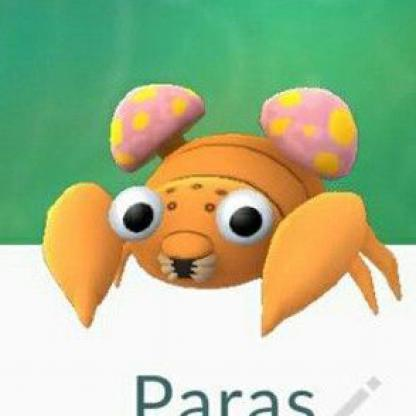Paras: (39, 45, 408, 355)
